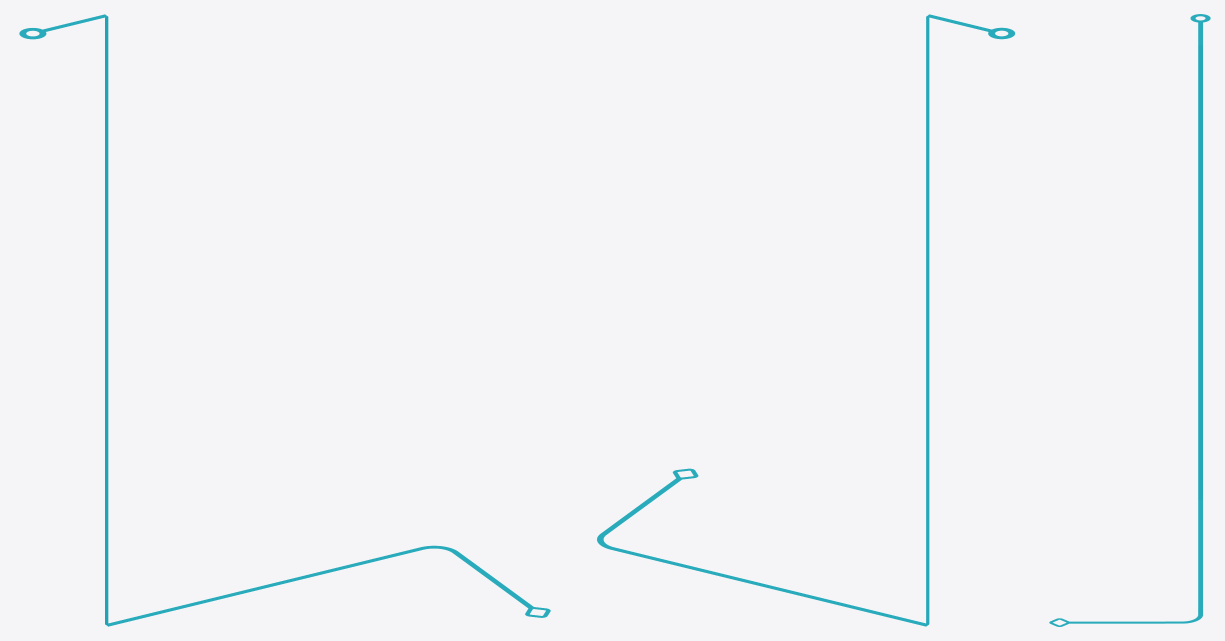
Rendered from 3_1_cl_inactive.glb.
3 renders of one model, left to right at view 1: azimuth 30°, elevation 25°; view 2: azimuth 150°, elevation 25°; view 3: azimuth 270°, elevation 25°, orthographic. The views are drawn at different scales.
Visible parts, largest first — view 1: 3_1_cl_inactive; view 2: 3_1_cl_inactive; view 3: 3_1_cl_inactive.
Boxes of the visible parts, x1=… form: 3_1_cl_inactive: x1=19, y1=14, x2=550, y2=626; 3_1_cl_inactive: x1=597, y1=14, x2=1015, y2=626; 3_1_cl_inactive: x1=1049, y1=14, x2=1210, y2=626.
Size of the model in its own units: 5.96 by 8 by 2.58.
1 material, 1 textured.
